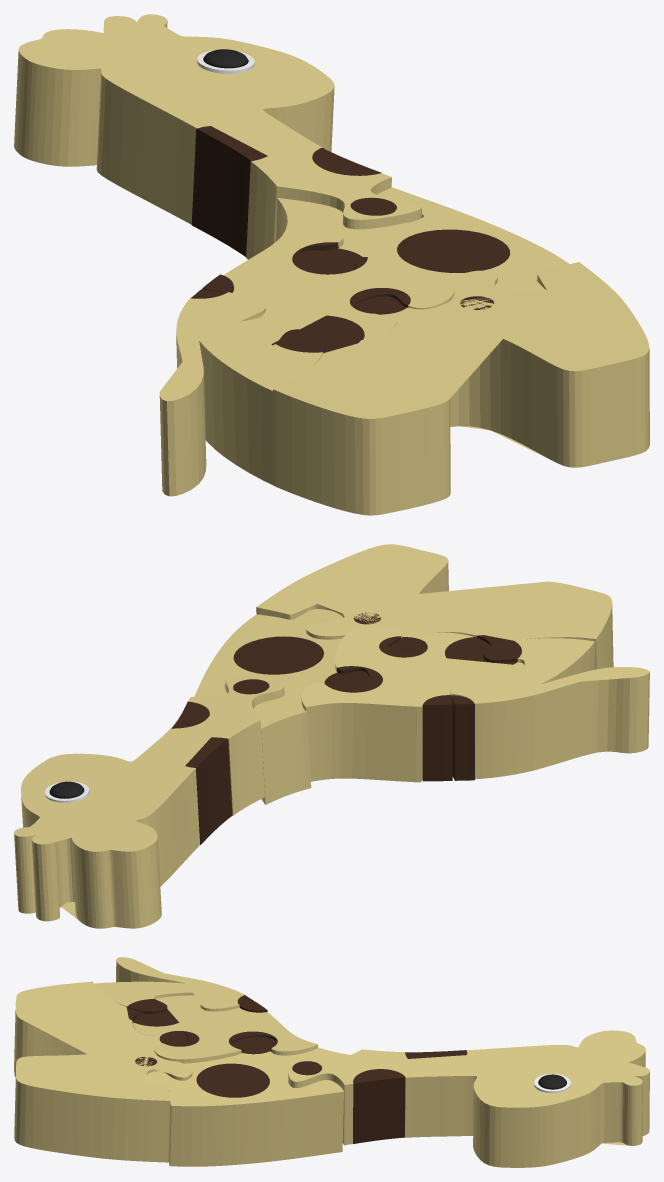
Rendered from giraffePuzzle.fbx.
3 renders of one model, top to bottom at view 1: azimuth 30°, elevation 25°; view 2: azimuth 150°, elevation 25°; view 3: azimuth 270°, elevation 25°, orthographic. The views are drawn at different scales.
Visible parts, largest first — view 1: Plane.050, Plane.054, Plane.000, Plane.049, Plane.051, Circle.007, Circle.004, Plane.001, Plane.060, Circle.006, Plane.052, Plane.059; view 2: Plane.054, Plane.050, Plane.000, Plane.049, Plane.051, Circle.007, Circle.004, Plane.055, Plane.056, Plane.001, Plane.052, Plane.060 (+2 smaller); view 3: Plane.054, Plane.050, Plane.051, Plane.049, Plane.000, Circle.006, Circle.004, Plane.060, Plane.001, Plane.052, Circle.007, Plane.059 (+2 smaller).
Boxes of the visible parts, <box> form: Plane.050: <box>273,262,649,515</box>; Plane.054: <box>14,14,422,259</box>; Plane.000: <box>159,292,323,496</box>; Plane.049: <box>223,220,454,345</box>; Plane.051: <box>276,187,569,295</box>; Circle.007: <box>191,126,267,256</box>; Circle.004: <box>397,229,510,272</box>; Plane.001: <box>271,315,364,345</box>; Plane.060: <box>301,248,361,269</box>; Circle.006: <box>312,147,381,175</box>; Plane.052: <box>276,329,325,352</box>; Plane.059: <box>292,242,367,274</box>; Plane.054: <box>14,674,284,928</box>; Plane.050: <box>256,544,613,669</box>; Plane.000: <box>450,638,649,779</box>; Plane.049: <box>301,625,523,782</box>; Plane.051: <box>194,609,343,804</box>; Circle.007: <box>185,737,232,844</box>; Circle.004: <box>233,636,323,674</box>; Plane.055: <box>422,695,452,781</box>; Plane.056: <box>451,695,474,780</box>; Plane.001: <box>445,637,516,664</box>; Plane.052: <box>483,640,521,662</box>; Plane.060: <box>324,670,369,691</box>; Plane.054: <box>288,1030,649,1167</box>; Plane.050: <box>14,981,192,1162</box>; Plane.051: <box>142,1047,349,1166</box>; Plane.049: <box>133,995,317,1063</box>; Plane.000: <box>94,957,244,1011</box>; Circle.006: <box>353,1069,405,1143</box>; Circle.004: <box>196,1063,269,1097</box>; Plane.060: <box>232,1036,275,1054</box>; Plane.001: <box>133,1009,178,1026</box>; Plane.052: <box>127,999,167,1013</box>; Circle.007: <box>405,1050,467,1058</box>; Plane.059: <box>229,1031,277,1052</box>.
Bounding box in the file's own units: 130 × 30.56 × 238.
